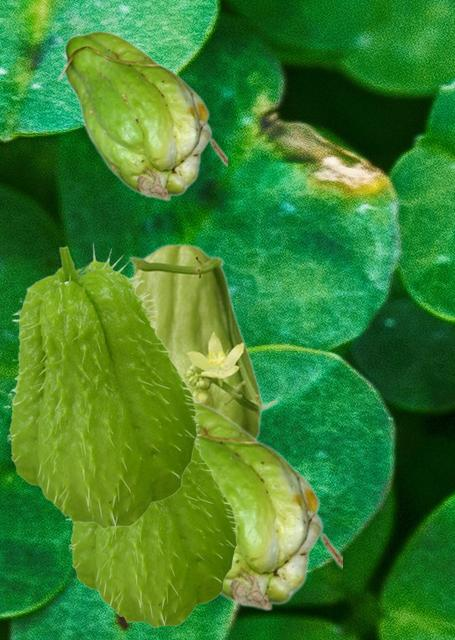sayote: (3, 242, 202, 528), (65, 423, 241, 627), (196, 402, 341, 610), (127, 243, 279, 438), (56, 30, 226, 200)
